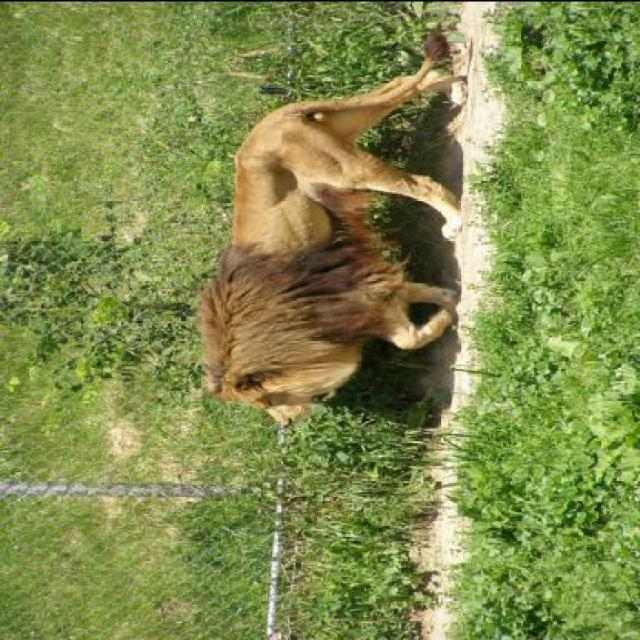Lion: (187, 24, 498, 436)
